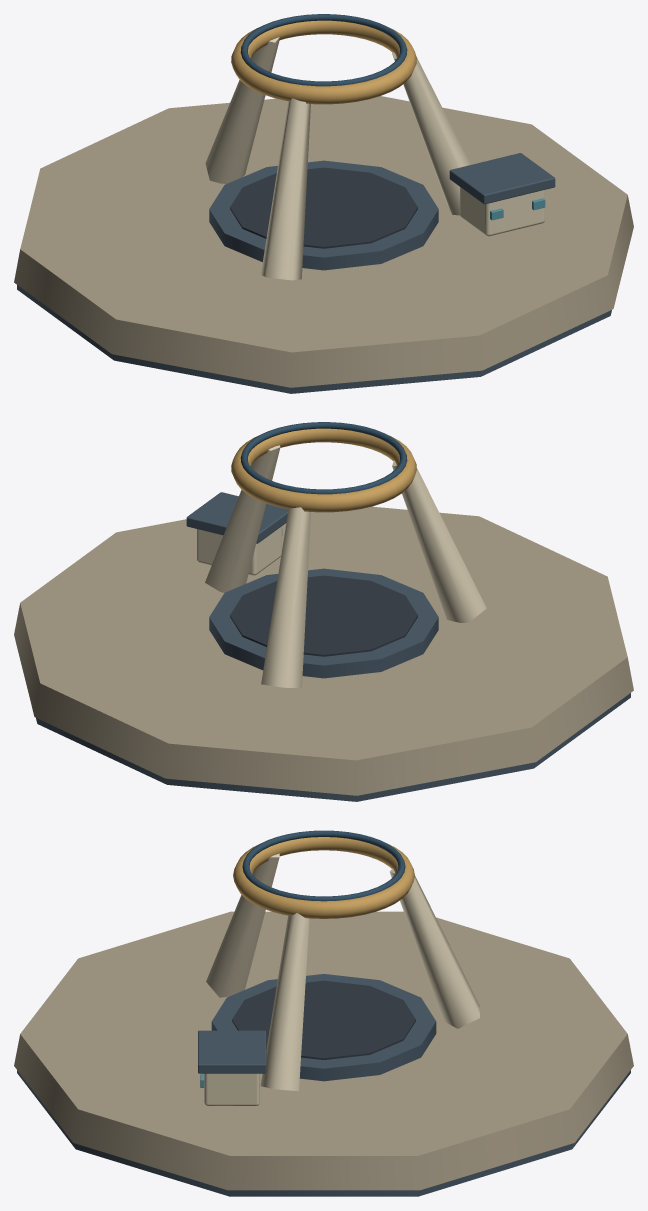
The model's file is triune.glb.
3 views of the same model, one above another, from view 1: azimuth 30°, elevation 25°; view 2: azimuth 150°, elevation 25°; view 3: azimuth 270°, elevation 25° (orthographic). The views are drawn at different scales.
Parts seen in each view (by area): view 1: Terrain cutaway, Sloping pylon (×3), Excavation floor, Excavation lip, Instrument ring, Substrate, Roof slab, Habitat pressure shell, Readout track; view 2: Terrain cutaway, Sloping pylon (×3), Excavation floor, Excavation lip, Instrument ring, Substrate, Readout track, Roof slab, Habitat pressure shell; view 3: Terrain cutaway, Sloping pylon (×3), Excavation floor, Instrument ring, Excavation lip, Substrate, Roof slab, Readout track, Habitat pressure shell.
Part boxes in pixels (left/top/right/bottom): Terrain cutaway: left=14, top=96, right=633, bottom=387; Sloping pylon (×3): left=205, top=37, right=470, bottom=280; Excavation floor: left=230, top=167, right=417, bottom=248; Excavation lip: left=209, top=160, right=438, bottom=270; Instrument ring: left=231, top=20, right=416, bottom=104; Substrate: left=17, top=285, right=611, bottom=393; Roof slab: left=449, top=153, right=555, bottom=204; Habitat pressure shell: left=460, top=187, right=544, bottom=236; Readout track: left=240, top=14, right=407, bottom=86; Terrain cutaway: left=14, top=506, right=633, bottom=795; Sloping pylon (×3): left=205, top=445, right=486, bottom=688; Excavation floor: left=230, top=575, right=417, bottom=656; Excavation lip: left=209, top=568, right=438, bottom=678; Instrument ring: left=231, top=428, right=416, bottom=512; Substrate: left=36, top=693, right=630, bottom=801; Readout track: left=240, top=422, right=407, bottom=494; Roof slab: left=186, top=492, right=288, bottom=543; Habitat pressure shell: left=197, top=526, right=281, bottom=575; Terrain cutaway: left=14, top=911, right=633, bottom=1190; Sloping pylon (×3): left=206, top=853, right=479, bottom=1091; Excavation floor: left=232, top=980, right=415, bottom=1059; Instrument ring: left=233, top=837, right=414, bottom=918; Excavation lip: left=211, top=974, right=436, bottom=1081; Substrate: left=17, top=1070, right=630, bottom=1196; Roof slab: left=198, top=1030, right=266, bottom=1073; Readout track: left=242, top=830, right=405, bottom=901; Habitat pressure shell: left=204, top=1073, right=259, bottom=1105.
Size of the model in its own units: 5.52 by 2.16 by 5.8.
